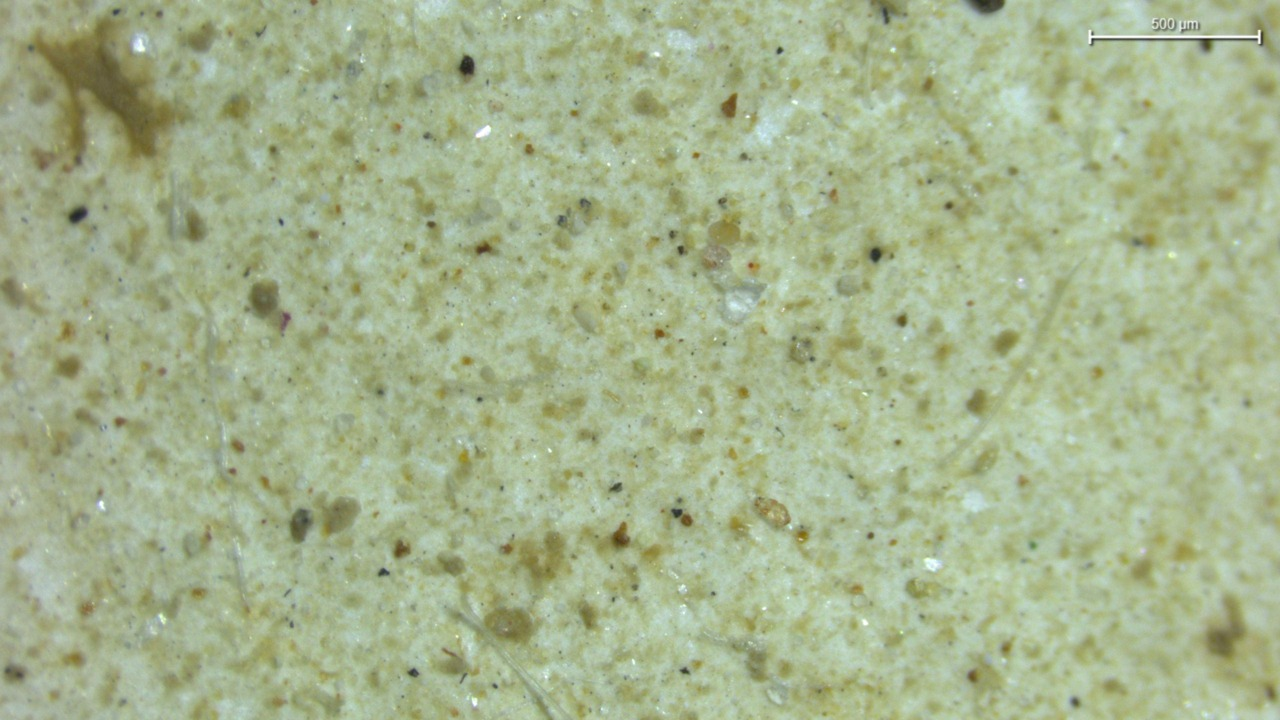microplastic_fragment: (724, 282, 766, 323)
